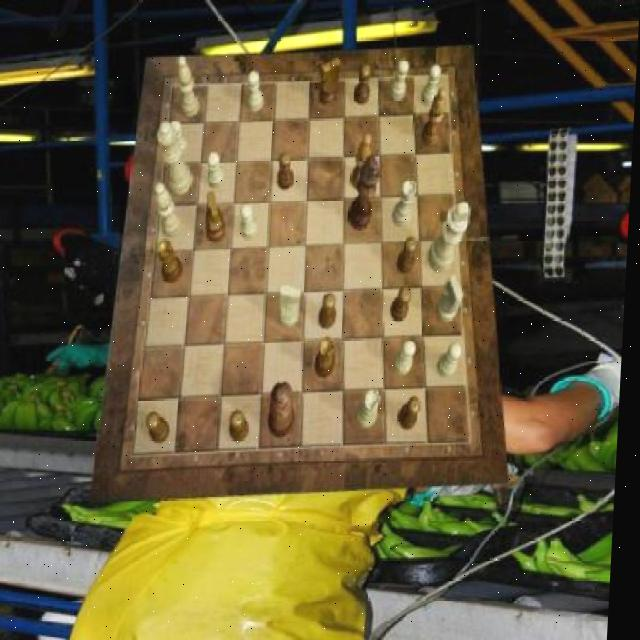bishop: (422, 88, 447, 146), (352, 132, 375, 190)
black-bishop: (350, 156, 383, 232)
black-king: (208, 190, 231, 242), (319, 59, 341, 106)
black-knight: (150, 412, 176, 445), (398, 237, 419, 275), (355, 63, 373, 105), (403, 397, 425, 431), (278, 151, 297, 189), (393, 288, 414, 322), (321, 294, 340, 330), (233, 411, 254, 443)
black-pawn: (271, 382, 300, 439)
black-queen: (158, 238, 187, 284), (317, 337, 339, 378)
black-rook: (155, 183, 185, 238), (175, 57, 201, 118)
white-bishop: (429, 202, 473, 272)
white-king: (438, 276, 466, 322), (279, 285, 304, 327)
white-knight: (440, 342, 466, 378), (389, 60, 410, 102), (396, 340, 420, 376), (421, 65, 442, 106), (168, 120, 189, 158), (248, 71, 267, 112), (207, 152, 227, 188), (242, 204, 261, 240)
white-pawn: (156, 121, 196, 196)
white-queen: (394, 180, 419, 228), (360, 389, 386, 428)
